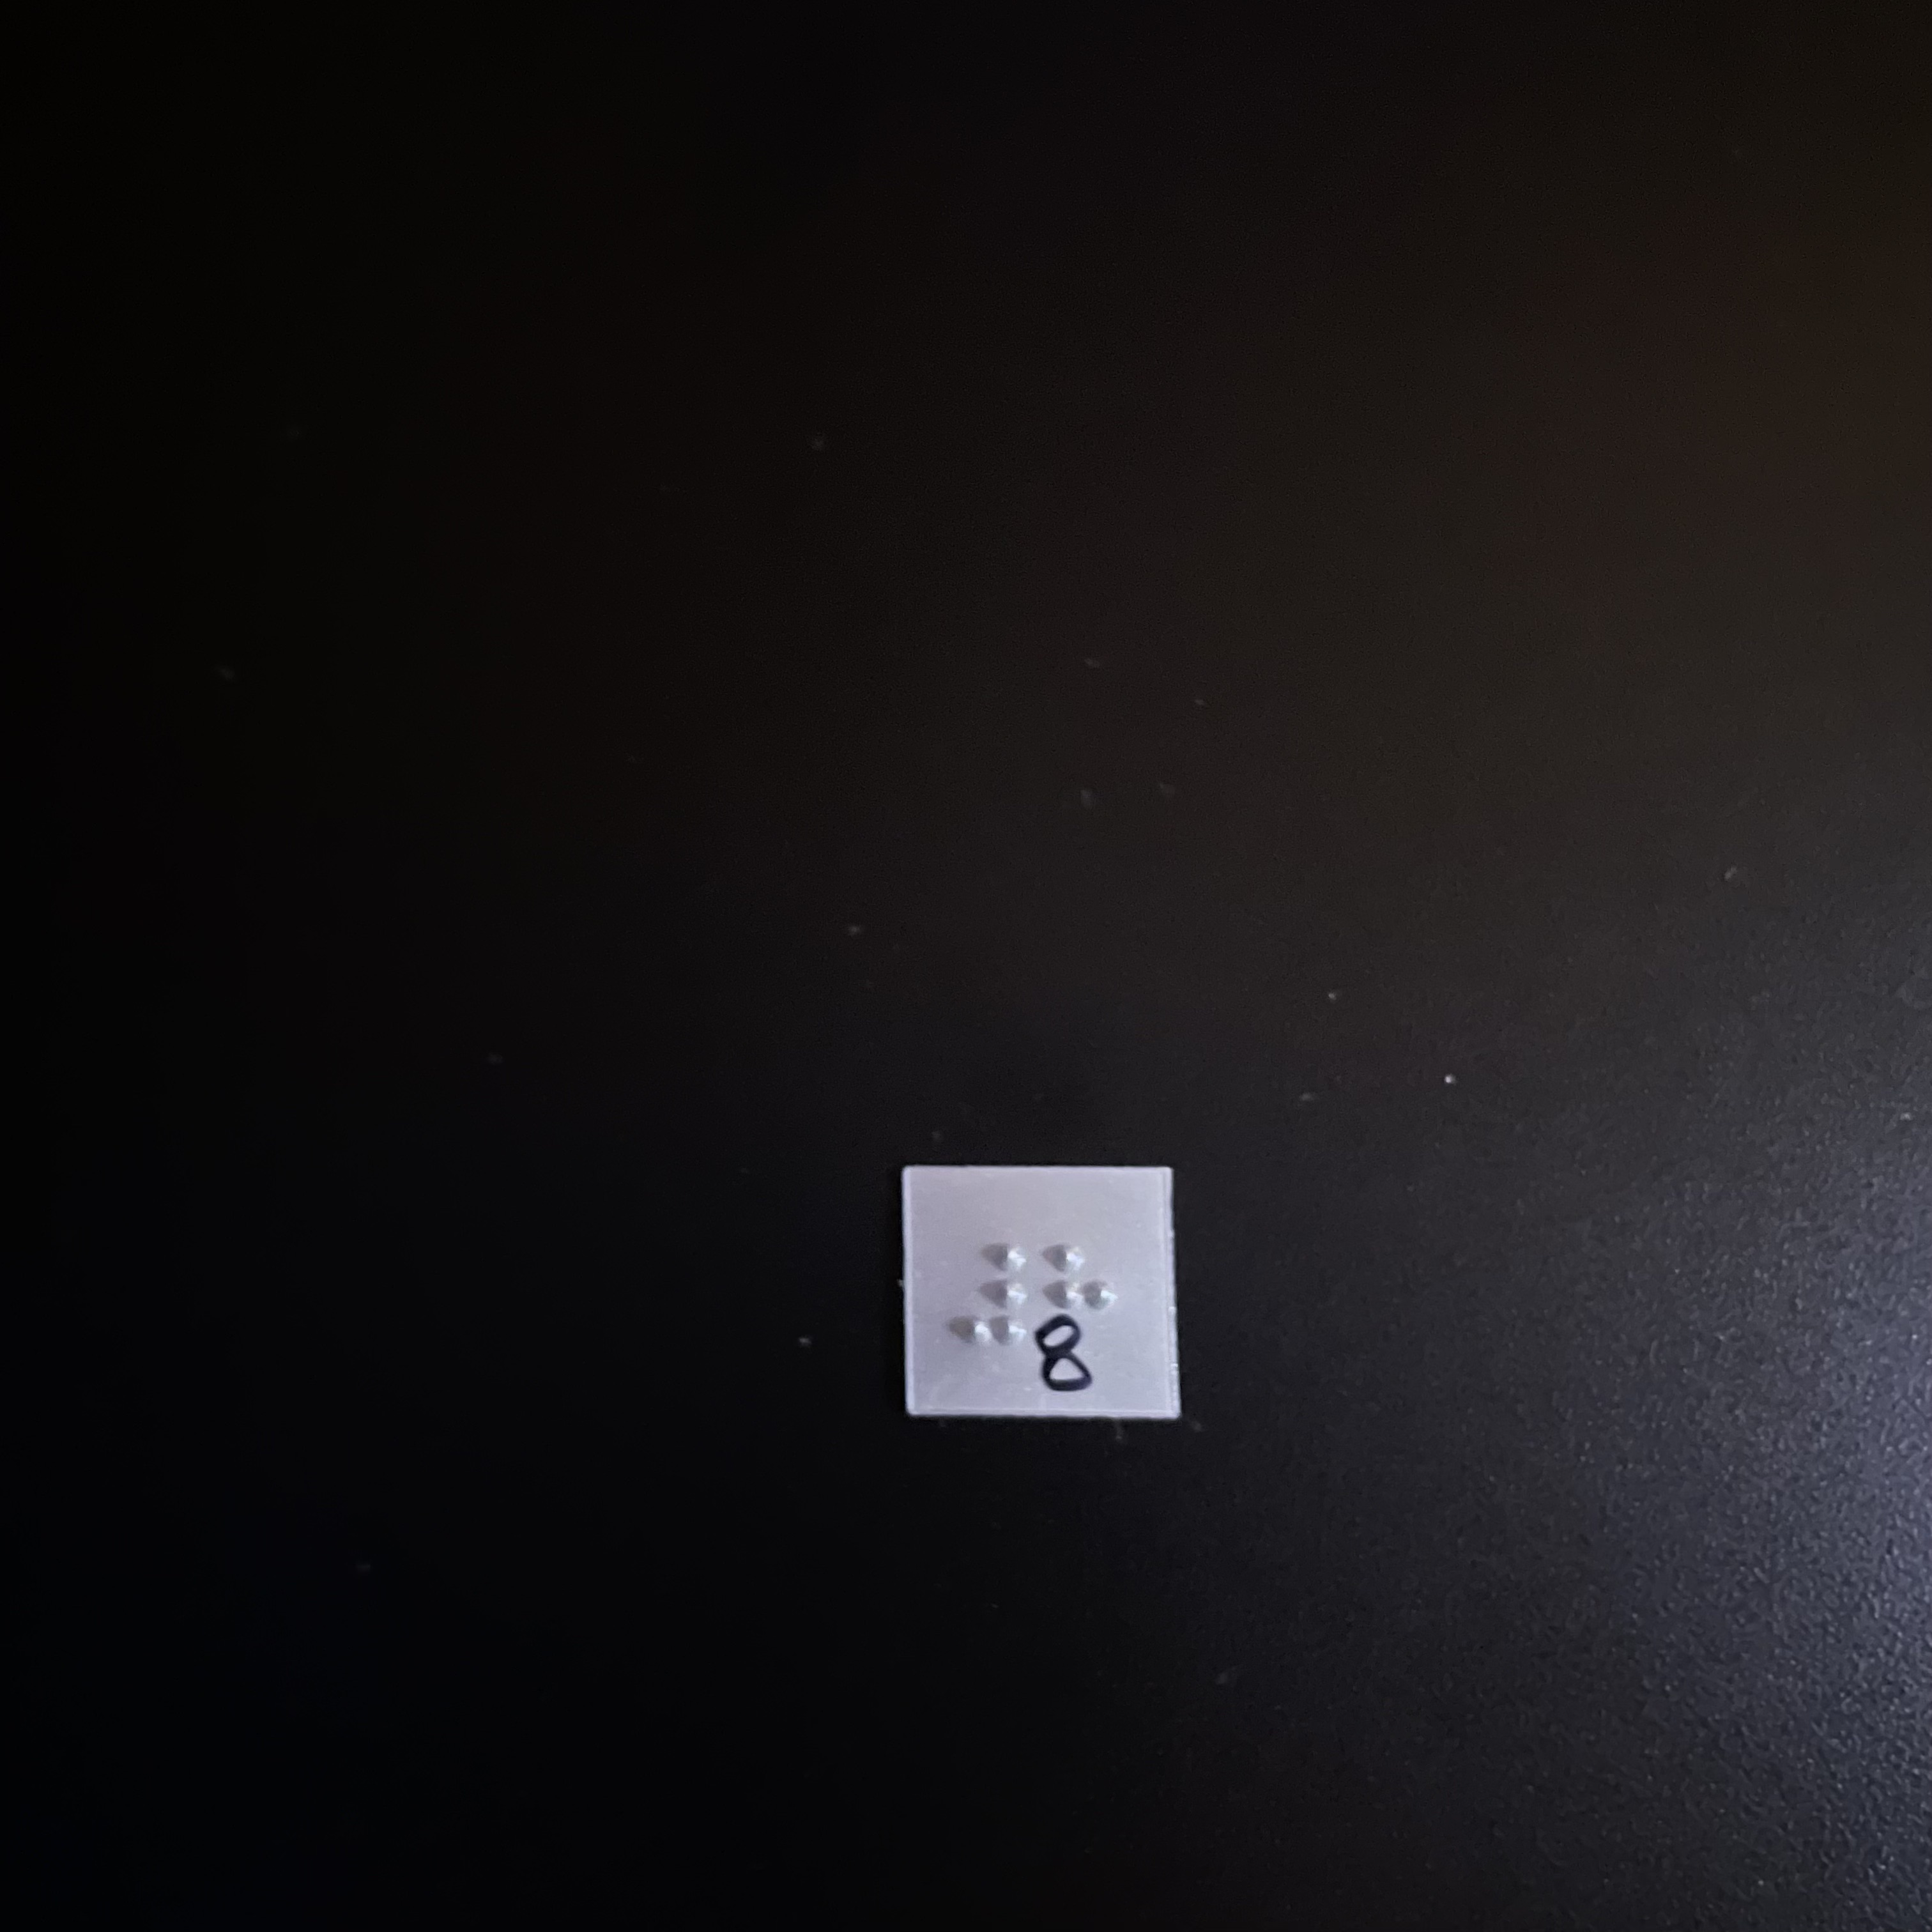#: (952, 1238, 1031, 1363)
h: (1036, 1238, 1119, 1368)
